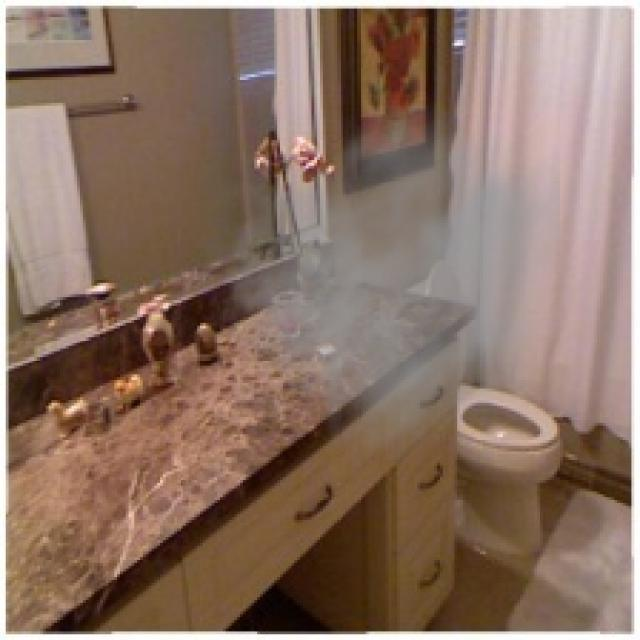Smoke: (185, 86, 560, 472)
